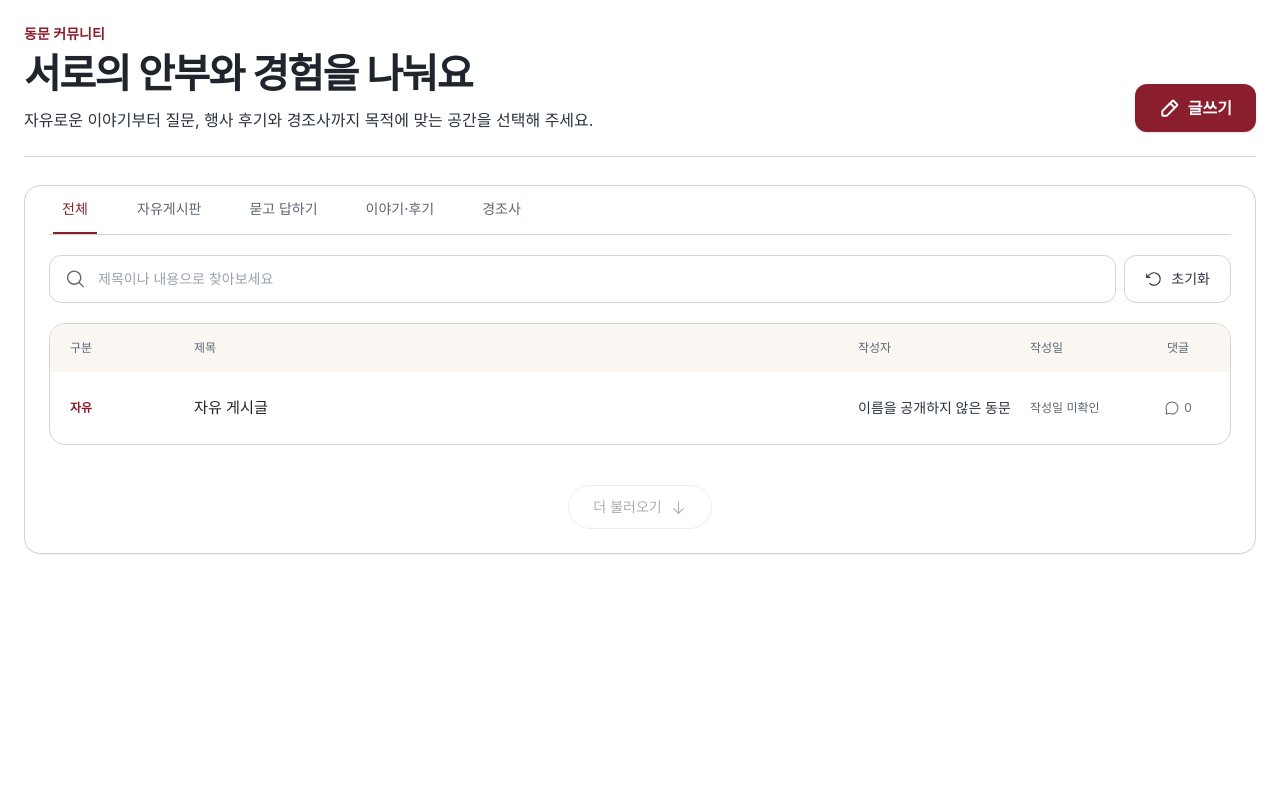
Test: BoardPage › 카테고리 탭 전환 시 새 데이터를 불러온다
Expected: the text "자유 게시글" is shown, [194, 396, 268, 420]
Step 1. Click the tab "묻고 답하기" → (283,210), box [241, 186, 326, 234]
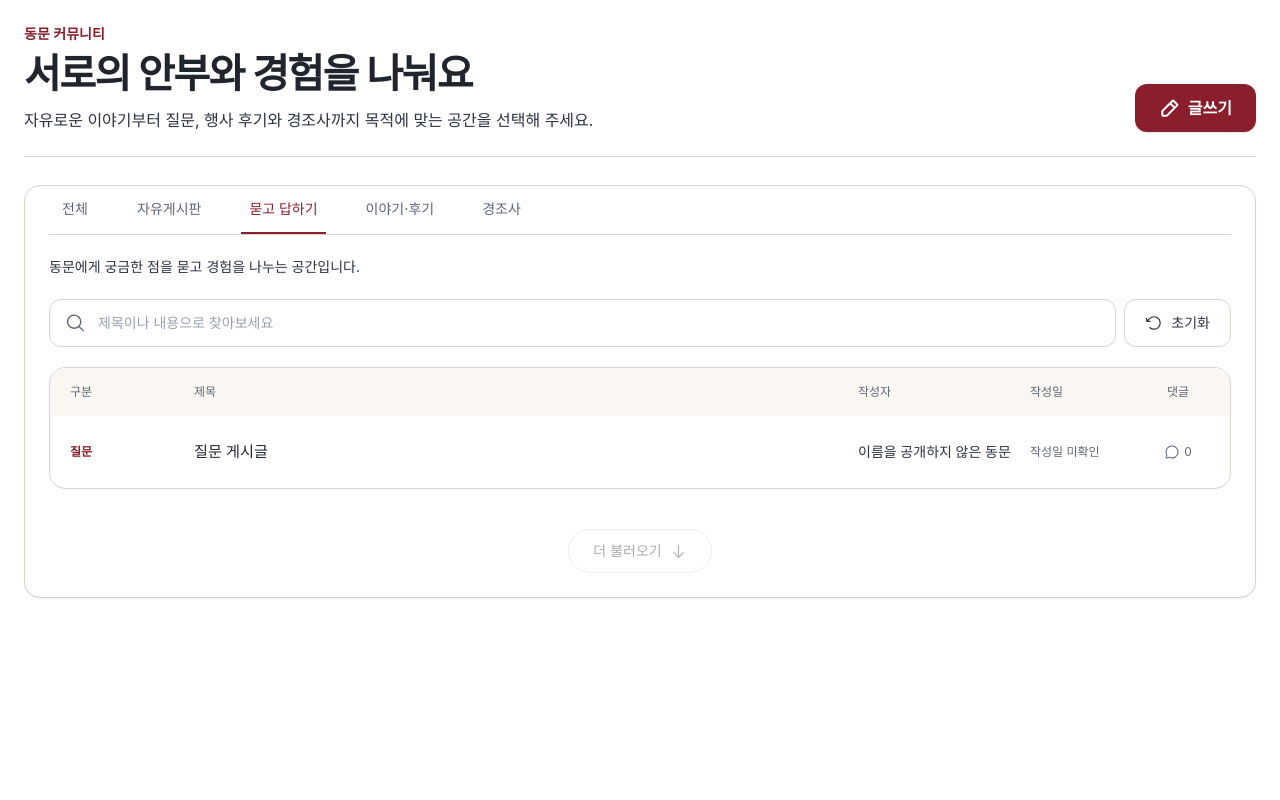
Expected: the text "질문 게시글" is shown, [194, 440, 268, 464]
